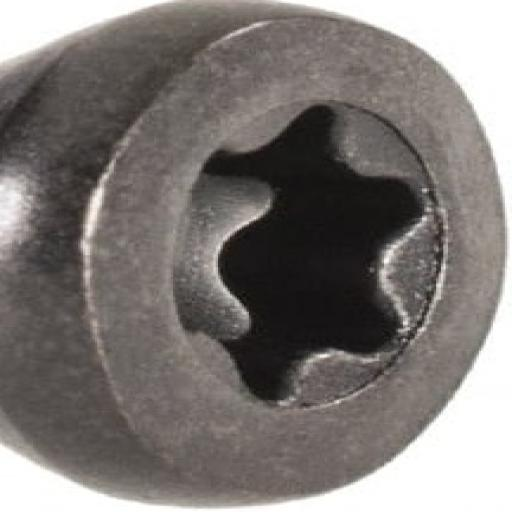Torx: (0, 0, 505, 511)
